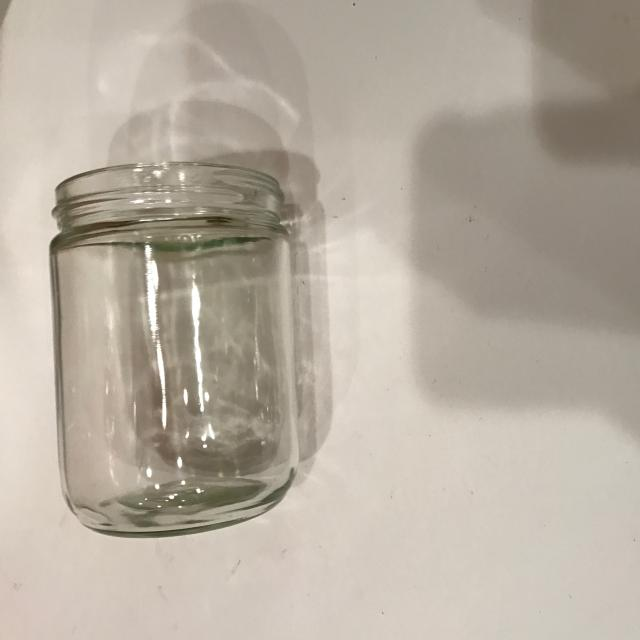glass: (49, 159, 301, 537)
